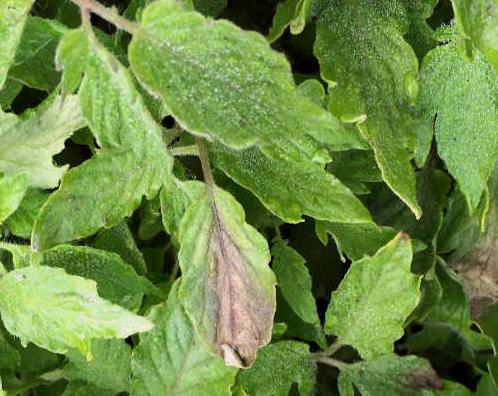Tomato mold leaf: (125, 1, 365, 149), (311, 0, 445, 224), (150, 177, 296, 367), (33, 14, 197, 176), (28, 146, 190, 255), (424, 27, 498, 218), (0, 269, 173, 343), (315, 239, 419, 358), (442, 122, 498, 320)
